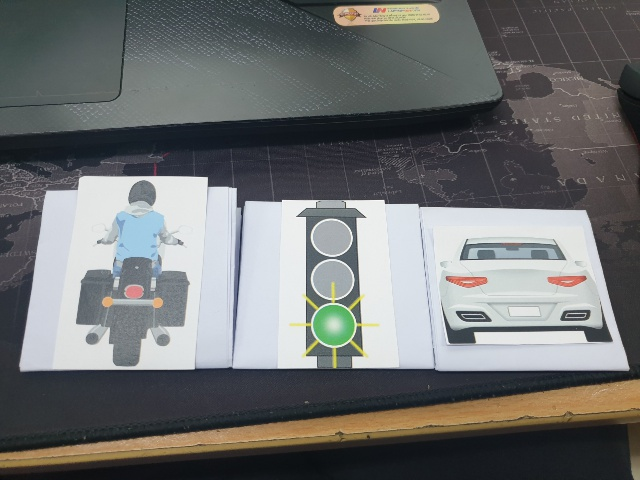Car: (435, 234, 611, 356)
Green Light: (290, 198, 378, 370)
Motorcycle: (79, 178, 190, 366)
